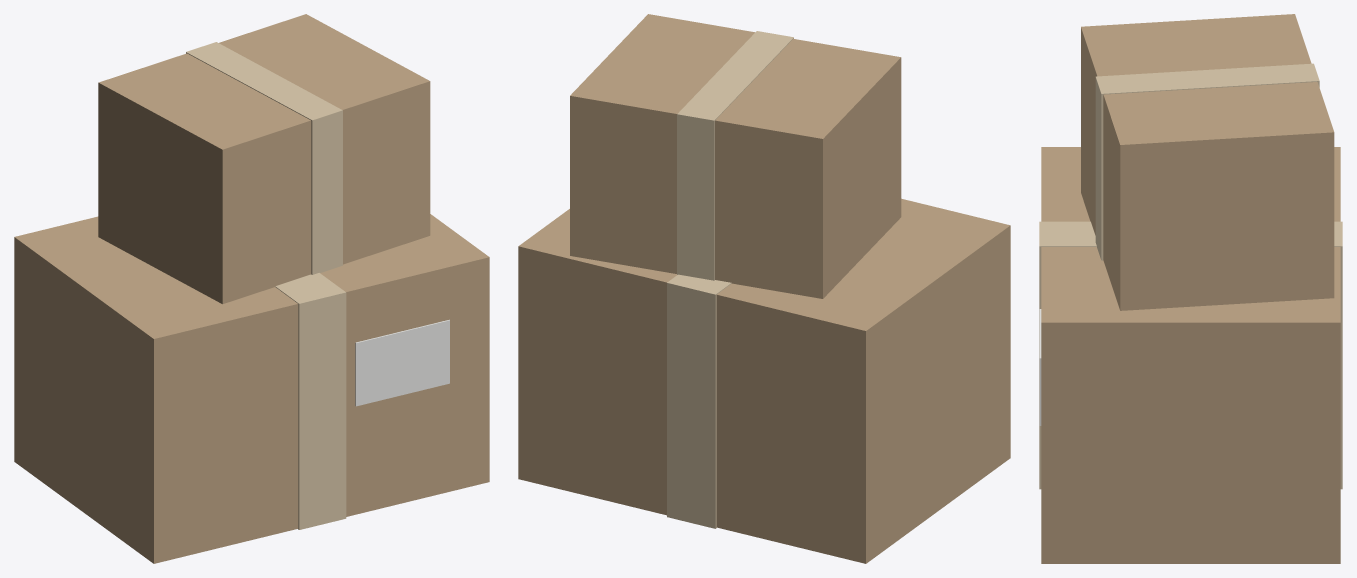
File: ParcelBox.fbx
3 views of the same model, side by side, from view 1: azimuth 30°, elevation 25°; view 2: azimuth 150°, elevation 25°; view 3: azimuth 270°, elevation 25° (orthographic). The views are drawn at different scales.
Parts seen in each view (by area): view 1: ParcelBox; view 2: ParcelBox; view 3: ParcelBox.
Boxes of the visible parts, x1=… form: ParcelBox: x1=14, y1=14, x2=489, y2=563; ParcelBox: x1=518, y1=14, x2=1010, y2=563; ParcelBox: x1=1039, y1=14, x2=1342, y2=563.
Size of the model in its own units: 0.5 by 0.542 by 0.365.
